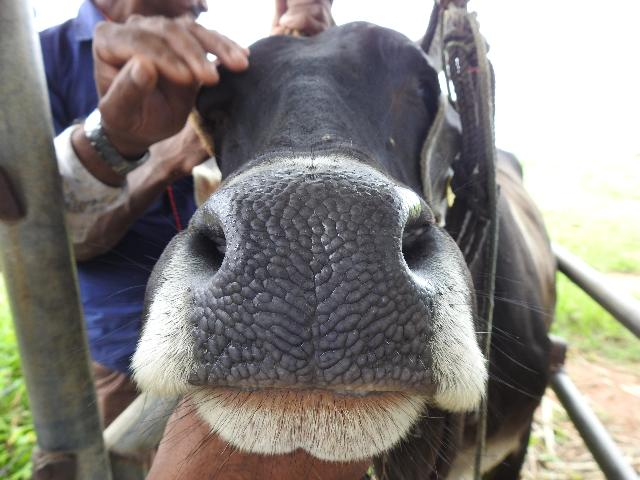Muzzle: (208, 185, 418, 389)
